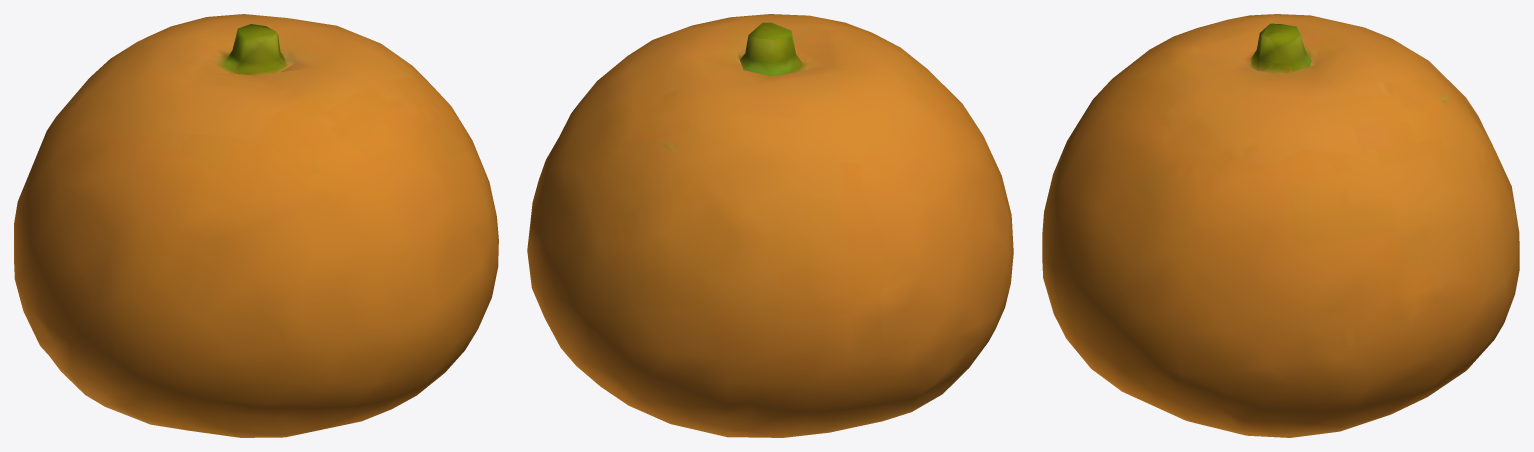
Rendered from tangerine.glb.
The picture shows the model from 3 angles, left to right: view 1: azimuth 30°, elevation 25°; view 2: azimuth 150°, elevation 25°; view 3: azimuth 270°, elevation 25°; orthographic projection.
Visible parts, largest first — view 1: textured_mesh.obj; view 2: textured_mesh.obj; view 3: textured_mesh.obj.
Boxes of the visible parts, x1,y1,x2,y2 form: textured_mesh.obj: (14, 14, 498, 437); textured_mesh.obj: (527, 14, 1013, 437); textured_mesh.obj: (1042, 14, 1519, 437).
Size of what is drawn, in the model's own units: 0.2379 by 0.1992 by 0.2378.
Materials: 1 (1 with a texture image).
